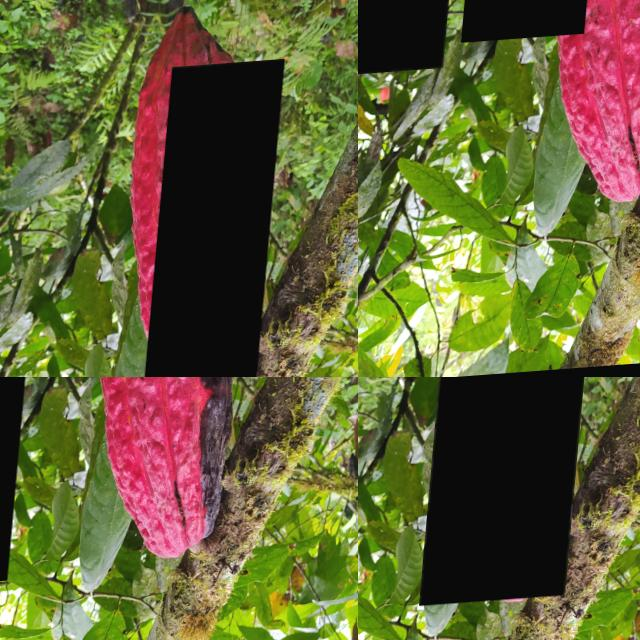Fitoftora: (428, 377, 602, 609)
Sana: (150, 65, 286, 377)
